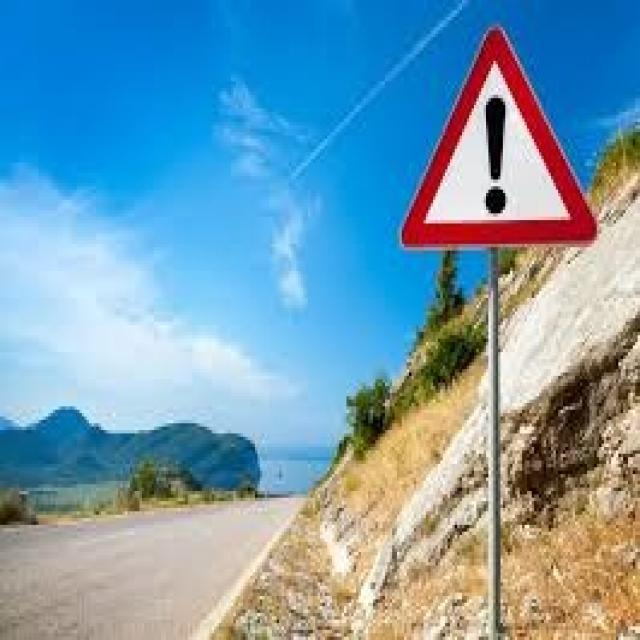warning: (400, 25, 596, 261)
